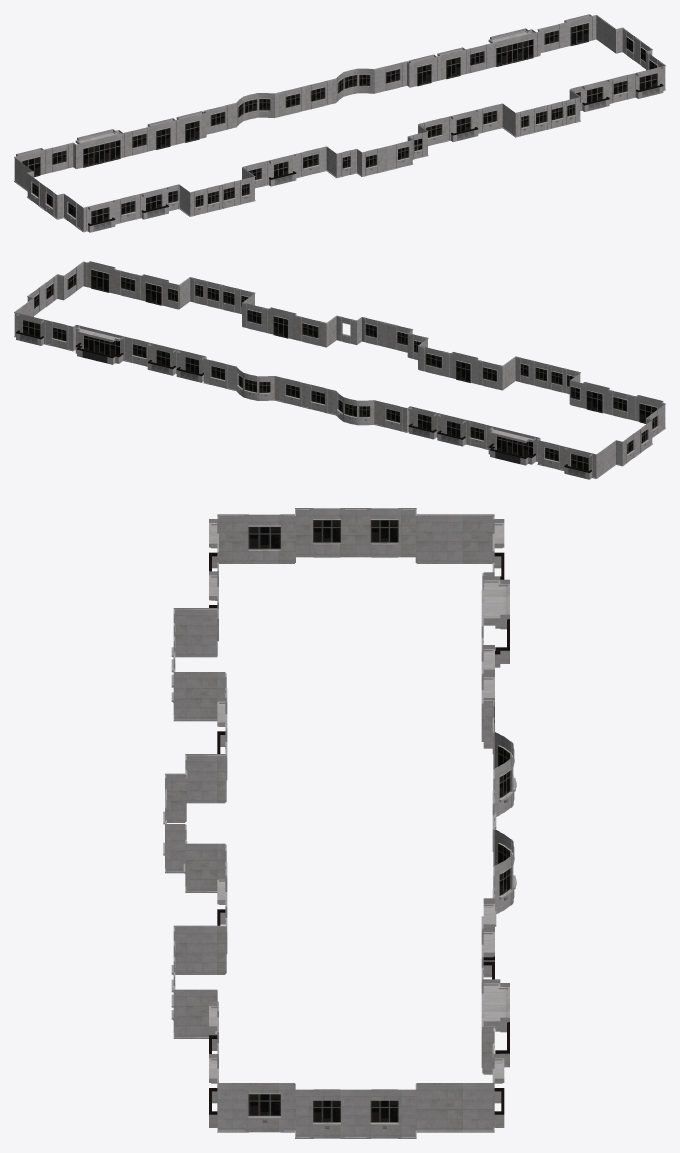
Rendered from BLD-1-Regular-Floor.FBX.
3 renders of one model, top to bottom at view 1: azimuth 30°, elevation 25°; view 2: azimuth 150°, elevation 25°; view 3: azimuth 270°, elevation 25°, orthographic. The views are drawn at different scales.
Visible parts, largest first — view 1: Exterior-Type-01-011; view 2: Exterior-Type-01-011; view 3: Exterior-Type-01-011.
Boxes of the visible parts, box(x1,y1,x2,y2) form: Exterior-Type-01-011: box(14, 14, 665, 232); Exterior-Type-01-011: box(14, 261, 665, 479); Exterior-Type-01-011: box(163, 508, 516, 1138).
Size of the model in its own units: 60.27 by 2.38 by 15.44.
